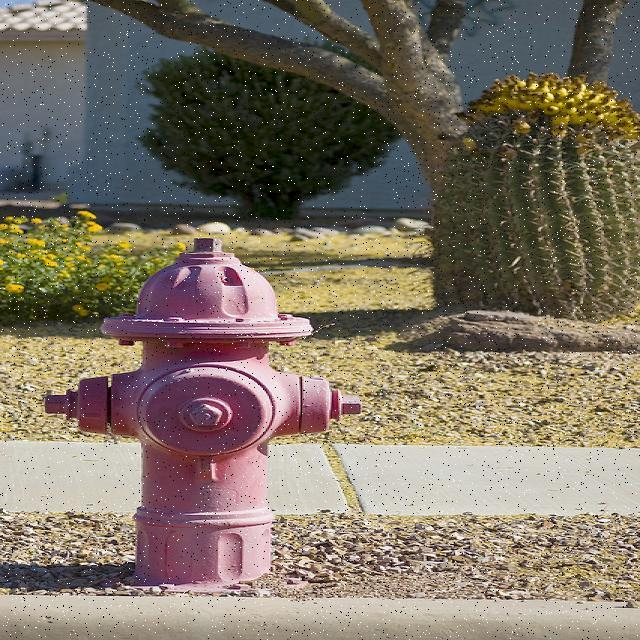fire_hydrant: (38, 236, 366, 582)
